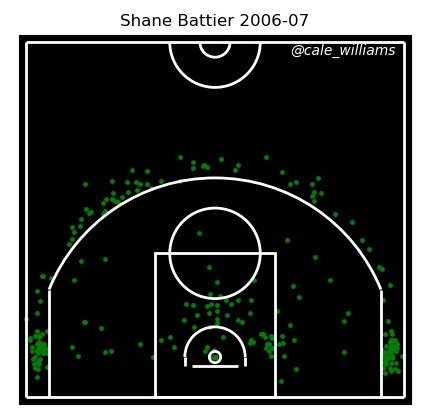

The page's visual inventory and layout, read from the dashboard file:
{"tool":"tableau","page":{"name":"Dashboard 1","canvas":[800,800],"ordinal":0},"visuals":[{"type":"worksheet","title":"Sheet 1","mark":"Automatic","rows":["LOC_Y"],"cols":["LOC_X"],"box":[8,8,624,784]},{"type":"legend","title":"Sheet 1","param":"[federated.03dq9x01td4w500zwbh3a0a7gqdi].[none:SHOT_MADE_FLAG:ok]","box":[632,8,160,72]}]}

Visuals, with their boxes in screenshot pixels (x1, y1, x2, y2), scaled from the page's 800x800 canvas onto the 427x416 screenshot:
"Sheet 1" worksheet: 4,4,337,412
"Sheet 1" legend: 337,4,423,42
